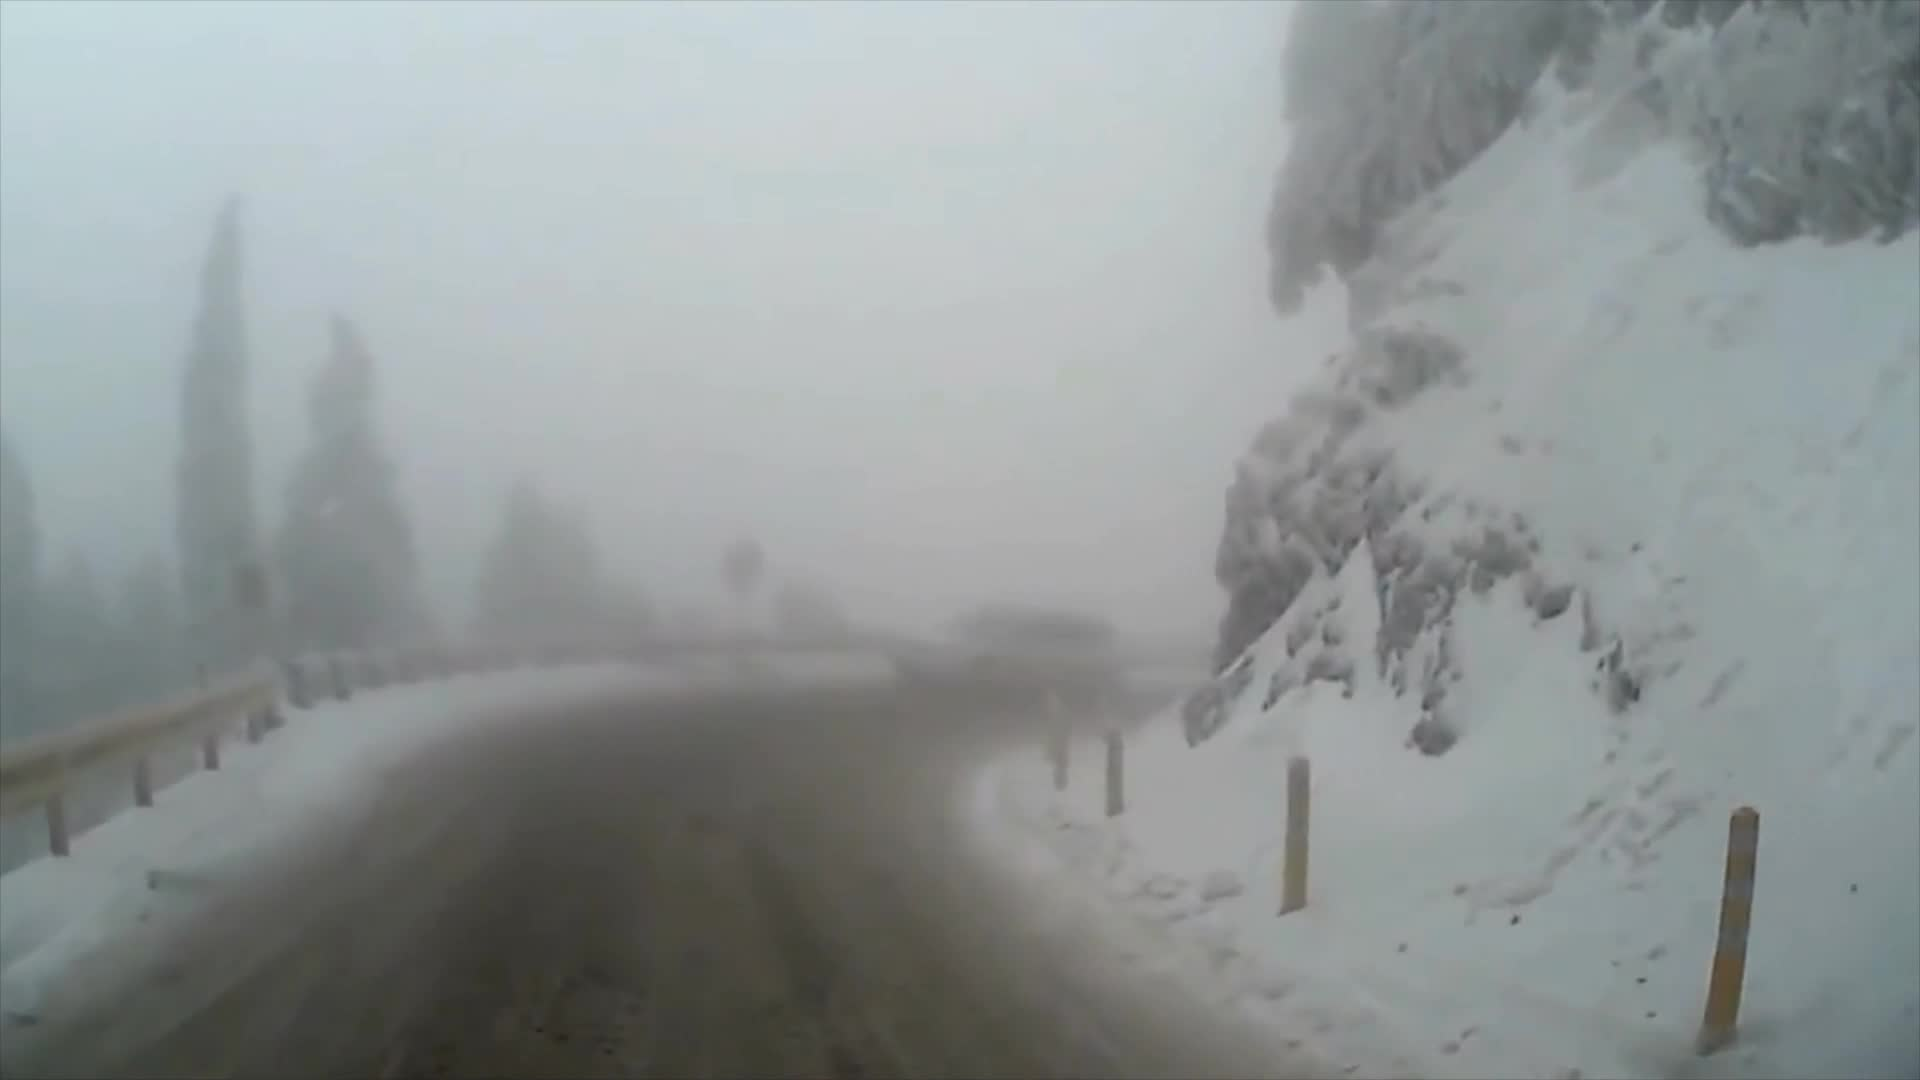vehicle: (884, 593, 1124, 711)
